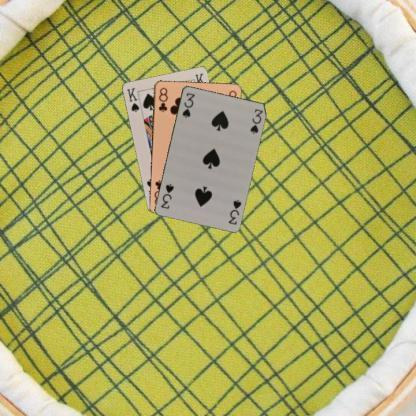3s: (226, 196, 242, 226), (180, 90, 196, 119)
8c: (156, 84, 169, 113)
Ks: (124, 84, 140, 113)
